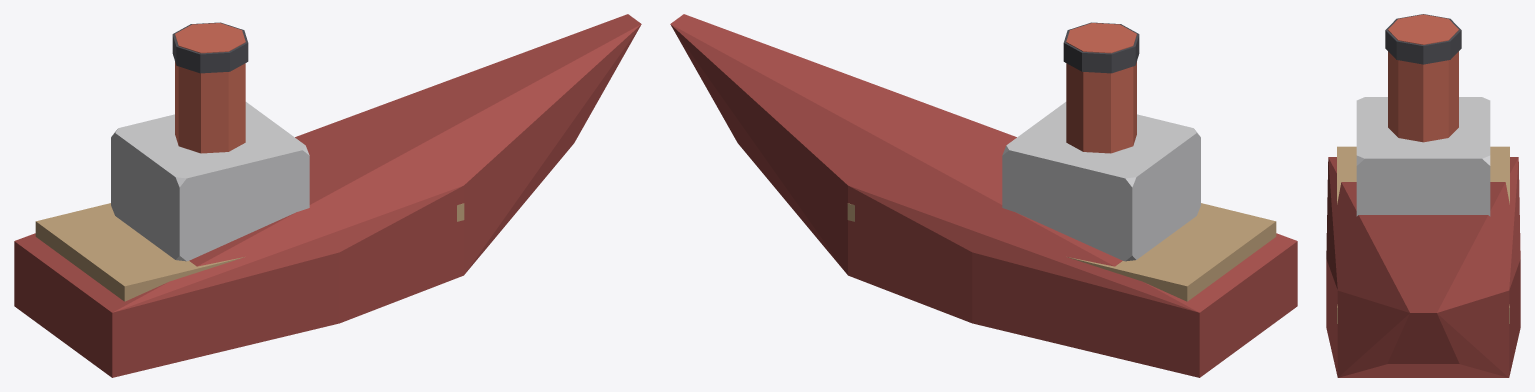
The picture shows the model from 3 angles, left to right: view 1: azimuth 30°, elevation 25°; view 2: azimuth 150°, elevation 25°; view 3: azimuth 270°, elevation 25°; orthographic projection. The views are drawn at different scales.
Visible parts, largest first — view 1: part0, part2, part1, part3, part4; view 2: part0, part2, part1, part3, part4; view 3: part0, part2, part3, part4, part1.
Boxes of the visible parts, bbox=[...] form: part0: bbox=[14, 14, 641, 377]; part2: bbox=[111, 102, 309, 261]; part1: bbox=[35, 203, 464, 301]; part3: bbox=[175, 23, 245, 153]; part4: bbox=[172, 22, 248, 73]; part0: bbox=[670, 14, 1297, 377]; part2: bbox=[1002, 102, 1200, 261]; part1: bbox=[847, 203, 1276, 301]; part3: bbox=[1066, 23, 1136, 153]; part4: bbox=[1063, 22, 1139, 73]; part0: bbox=[1326, 157, 1520, 377]; part2: bbox=[1356, 97, 1490, 216]; part3: bbox=[1388, 14, 1458, 142]; part4: bbox=[1385, 14, 1461, 64]; part1: bbox=[1337, 146, 1509, 323].
Bounding box in the file's own units: 5.05 × 2.27 × 1.53.
